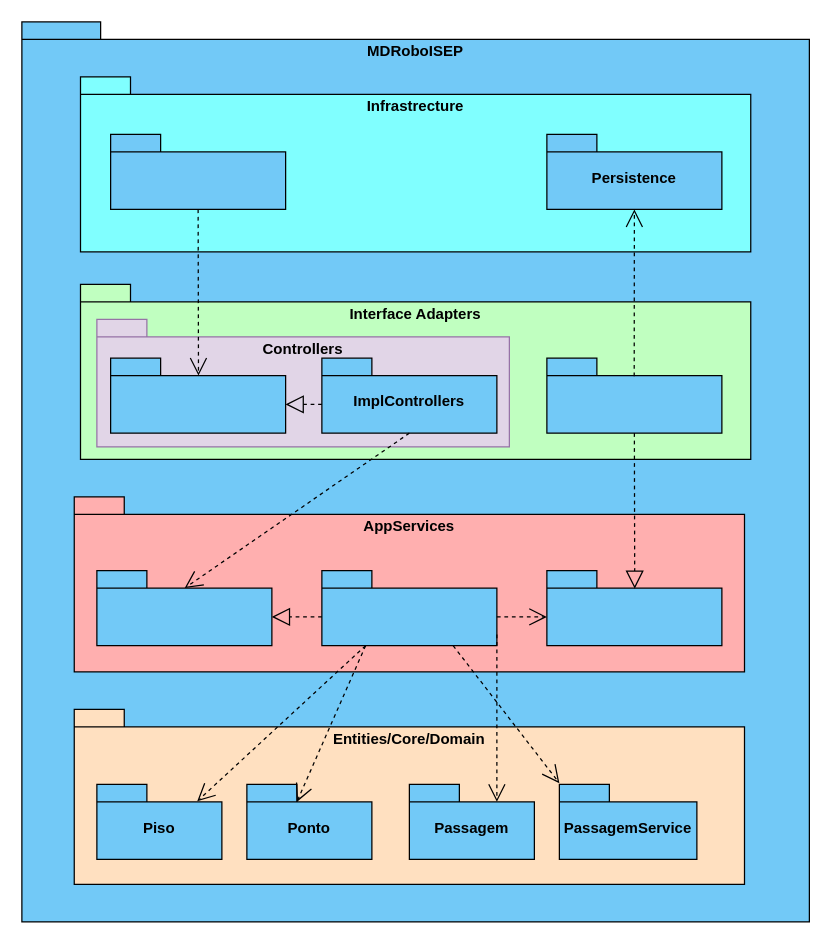
Some shapes in this 831 by 944 pixel diagram are drawn without their labels. Here are the shapes that lost their labels. From the top down, the centre of each, then its label:
At (197,171): "Routes".
At (197,395): "IControllers".
At (634,395): "Repos".
At (184,607): "IServices".
At (409,607): "ImpServices".
At (634,607): "IRepositories".
